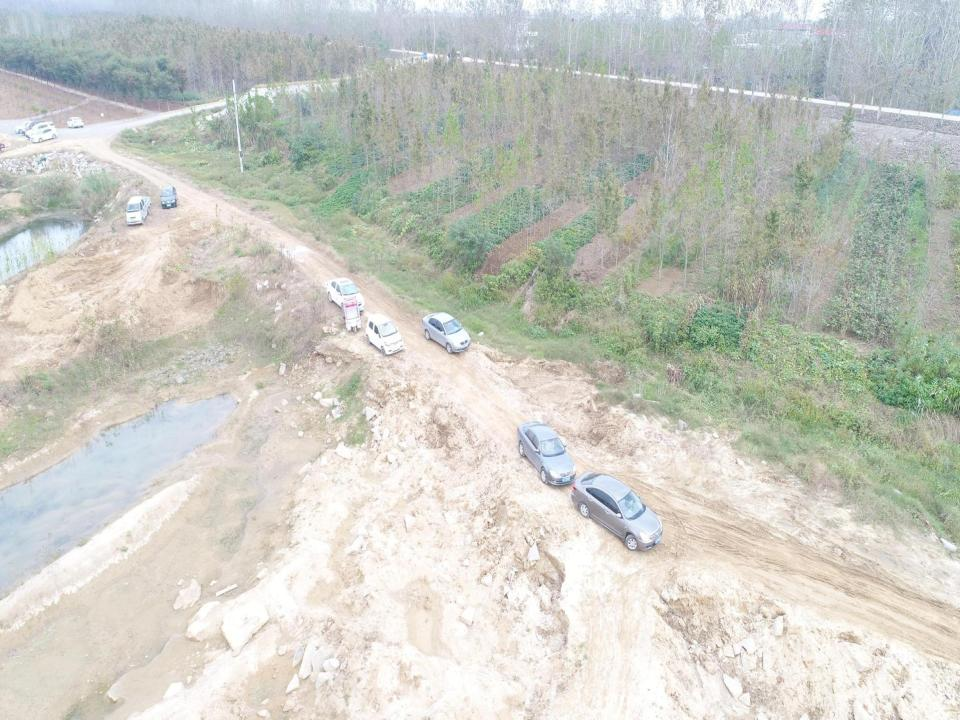car: (572, 472, 663, 552), (518, 422, 575, 486), (422, 313, 470, 354), (365, 313, 403, 356), (327, 278, 364, 314), (25, 122, 55, 140), (32, 128, 57, 144), (160, 186, 178, 208), (66, 116, 83, 129)
truck: (125, 196, 151, 226)
